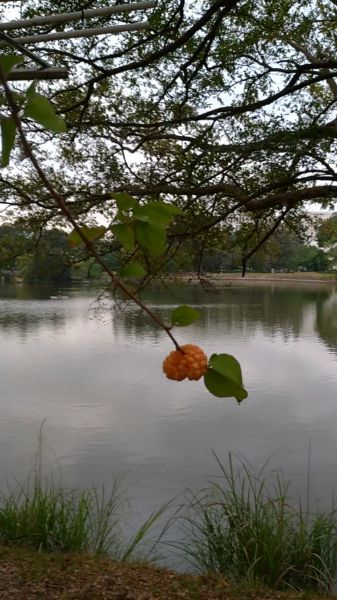eggs: (155, 343, 217, 384)
